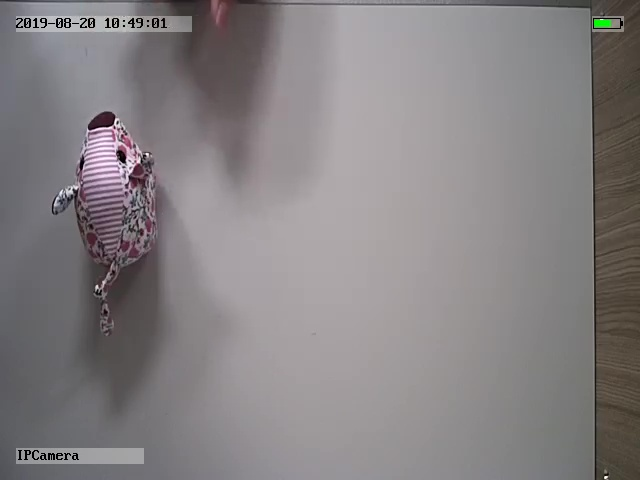pig: (50, 110, 160, 337)
